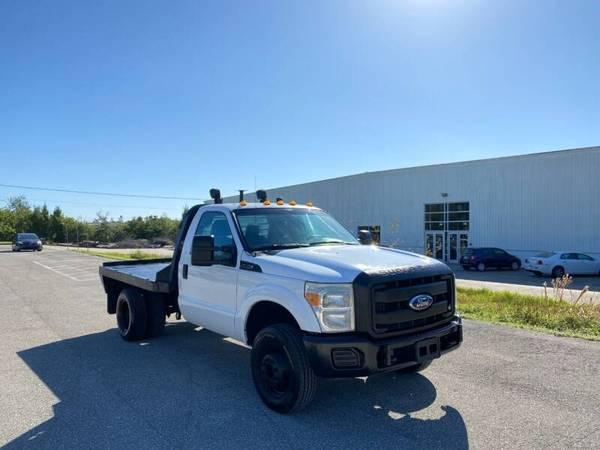Front_Bumper: (302, 311, 465, 376)
Front_Fender: (233, 270, 319, 344)
Front_Right_Door: (178, 254, 237, 336)
Front_Right_Window: (188, 211, 236, 267)
Front_Windshield: (232, 208, 357, 249)
Grille: (353, 265, 457, 337)
Hood: (236, 243, 444, 281)
Right_Headlight: (303, 280, 357, 335)
Roof: (181, 199, 320, 253)
Wheel: (250, 321, 318, 412), (115, 292, 167, 340)
